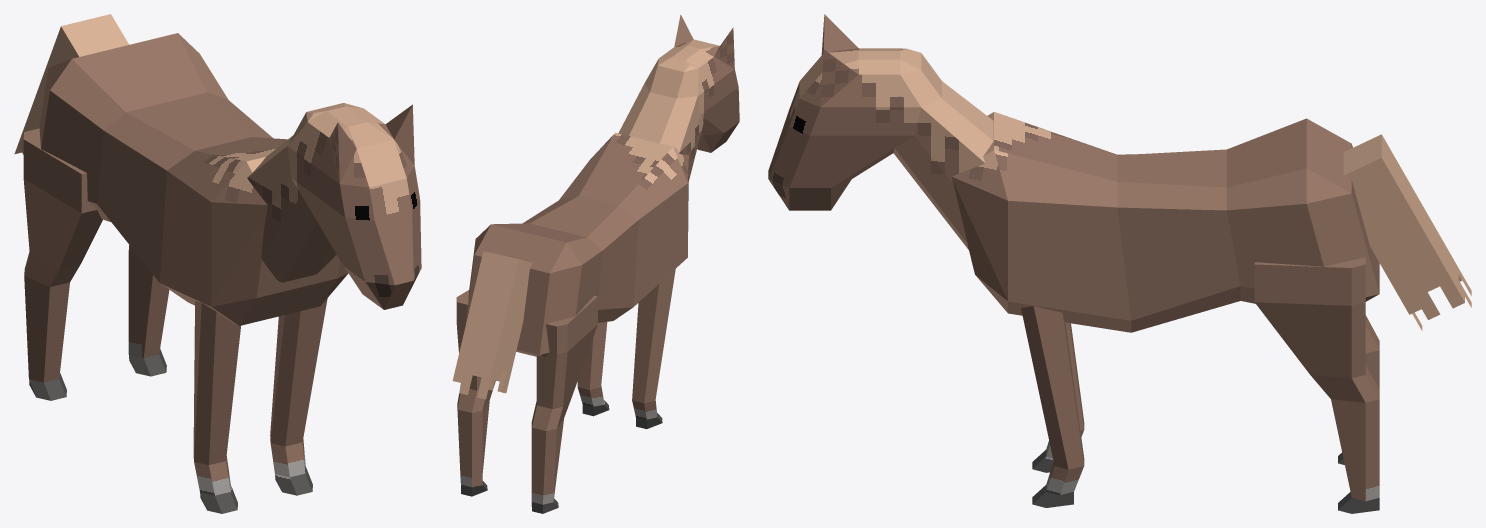
The model's file is uma.gltf.
3 renders of one model, left to right at view 1: azimuth 30°, elevation 25°; view 2: azimuth 150°, elevation 25°; view 3: azimuth 270°, elevation 25°, orthographic. The views are drawn at different scales.
Visible parts, largest first — view 1: beveled_cuboid (×2), cylinder (×4), cuboid; view 2: beveled_cuboid (×2), cylinder (×4), cuboid; view 3: beveled_cuboid (×2), cylinder (×4), cuboid.
Part boxes in pixels (<box>): beveled_cuboid (×2): <box>39,33,421,325</box>; cylinder (×4): <box>23,128,327,513</box>; cuboid: <box>14,14,128,154</box>; beveled_cuboid (×2): <box>465,14,739,356</box>; cylinder (×4): <box>456,269,675,513</box>; cuboid: <box>452,251,532,399</box>; beveled_cuboid (×2): <box>768,14,1379,332</box>; cylinder (×4): <box>1021,257,1379,513</box>; cuboid: <box>1343,134,1471,330</box>.
Bounding box in the file's own units: 0.7797 × 2.24 × 3.16.
Materials: 1 (1 with a texture image).
